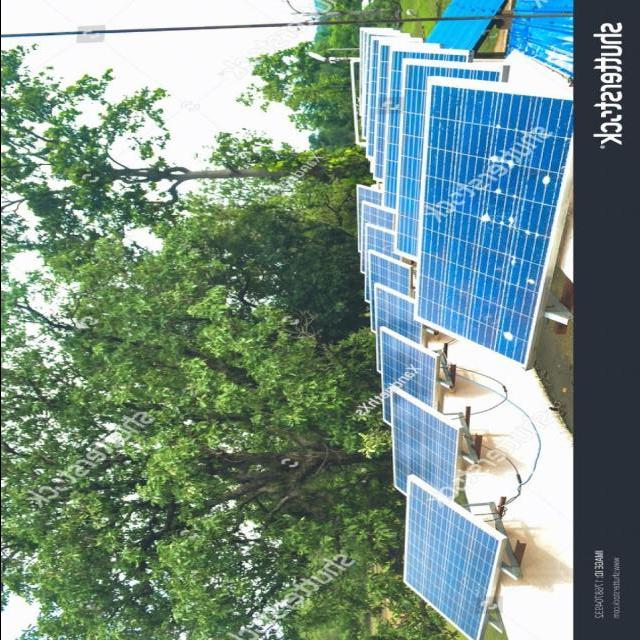cracked: (420, 82, 571, 358)
